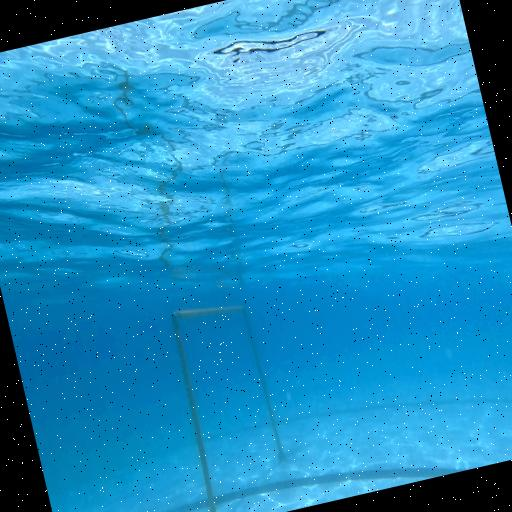gate: (164, 295, 297, 512)
